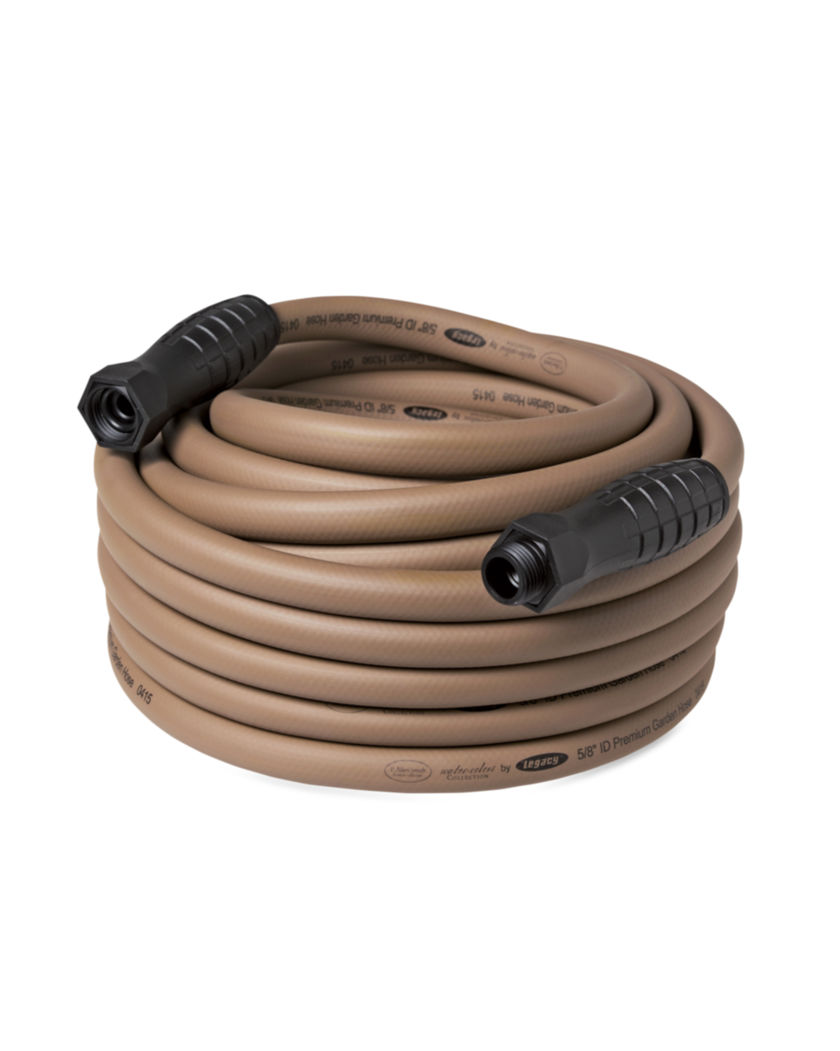Nonrec_Tangler: (42, 248, 757, 827)
